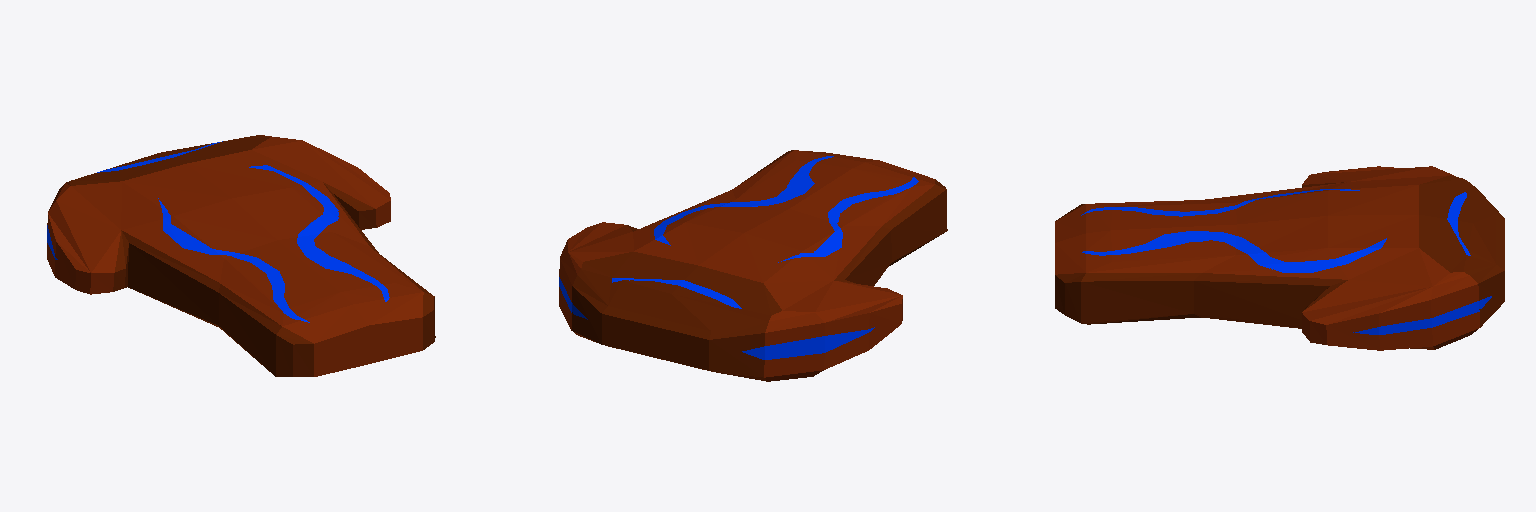
The model's file is WaterTunic.obj.
3 views of the same model, side by side, from view 1: azimuth 30°, elevation 25°; view 2: azimuth 150°, elevation 25°; view 3: azimuth 270°, elevation 25° (orthographic).
Visible parts, largest first — view 1: WaterTunic; view 2: WaterTunic; view 3: WaterTunic.
Part boxes in pixels (bbox=[...]): WaterTunic: bbox=[47, 135, 435, 376]; WaterTunic: bbox=[559, 150, 947, 381]; WaterTunic: bbox=[1055, 166, 1504, 350].
Bounding box in the file's own units: 0.7995 × 0.2011 × 0.9913.